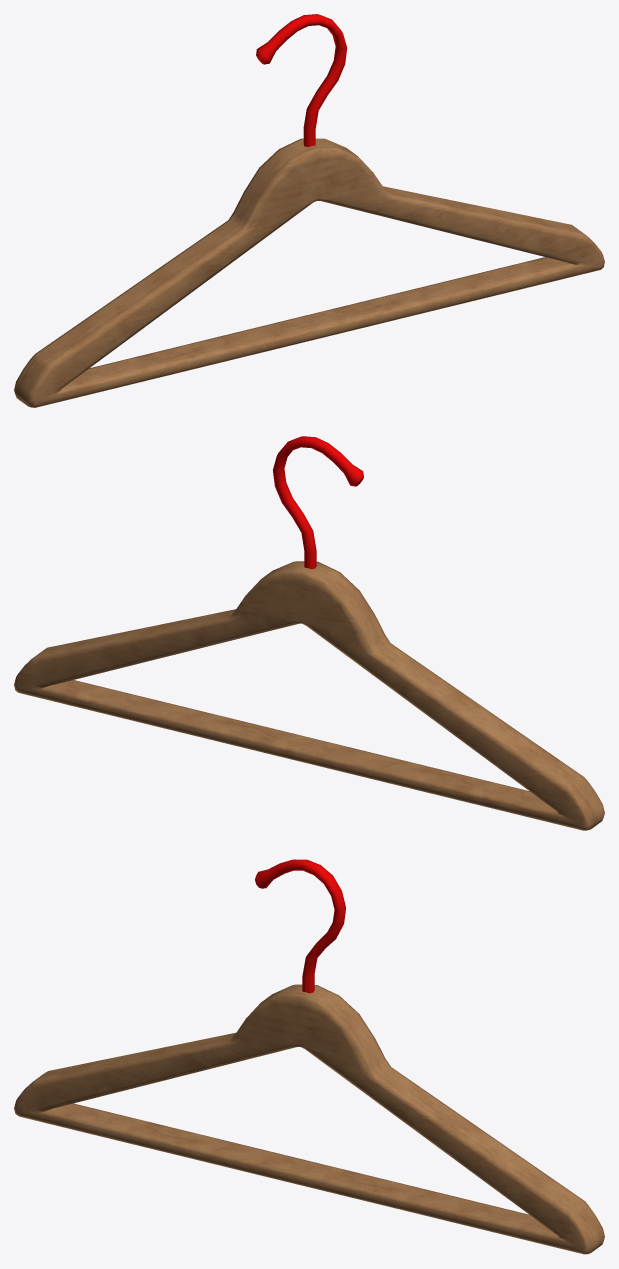
The model's file is Hanger.fbx.
3 views of the same model, one above another, from view 1: azimuth 30°, elevation 25°; view 2: azimuth 150°, elevation 25°; view 3: azimuth 330°, elevation 25° (orthographic).
Parts seen in each view (by area): view 1: Hanger; view 2: Hanger; view 3: Hanger.
Part boxes in pixels (box(x1,y1,x2,y2)): Hanger: box(14, 14, 604, 407); Hanger: box(14, 436, 604, 830); Hanger: box(14, 859, 604, 1254).
Bounding box in the file's own units: 45.15 × 23.93 × 2.47.
2 materials, 1 textured.
